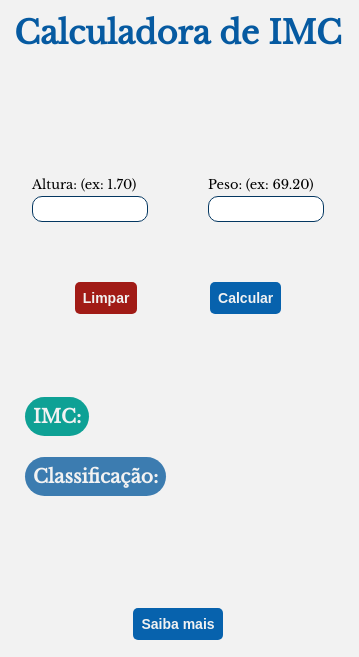
Scenario: Test usage of Calculator page › Should appear imc information when calculate button is clicked
Click the button "Calcular" at (246, 298), box [210, 282, 281, 314]
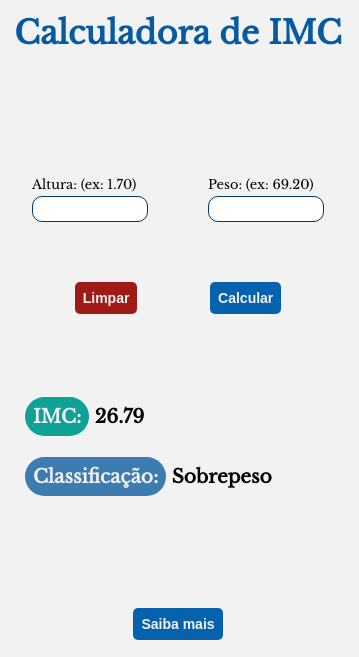
Expected: the text "26.79" is shown, [95, 404, 144, 428]
Expected: the text with test id "answer-status" reads "Sobrepeso", [172, 465, 272, 488]
